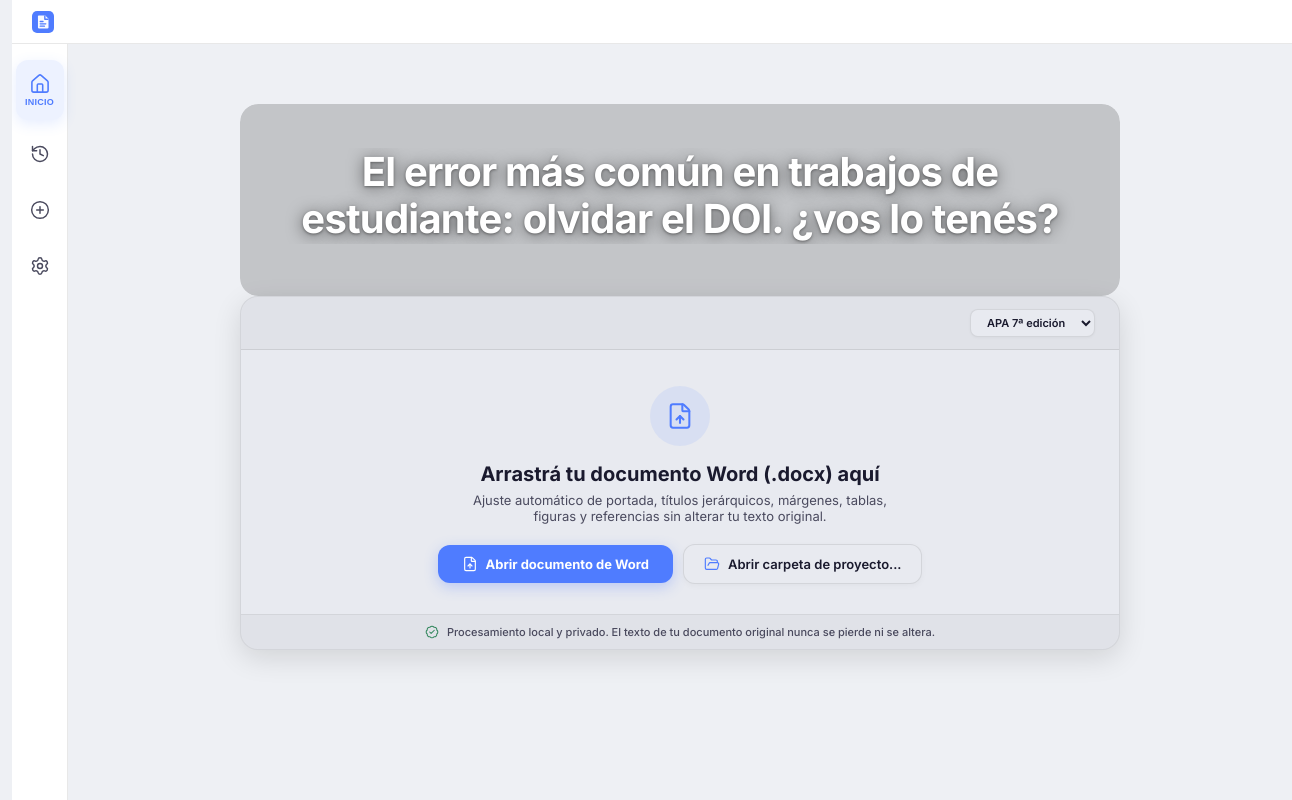
it: T19 — rail de Inicio › Recientes del rail cambia el contenido, igual que el botón del sidebar viejo
This screenshot has width=1292, height=800.
Expected: the heading "Documentos Recientes" is not shown
Click the button named "Recientes". click: x=40, y=154
box: [18,132,62,176]
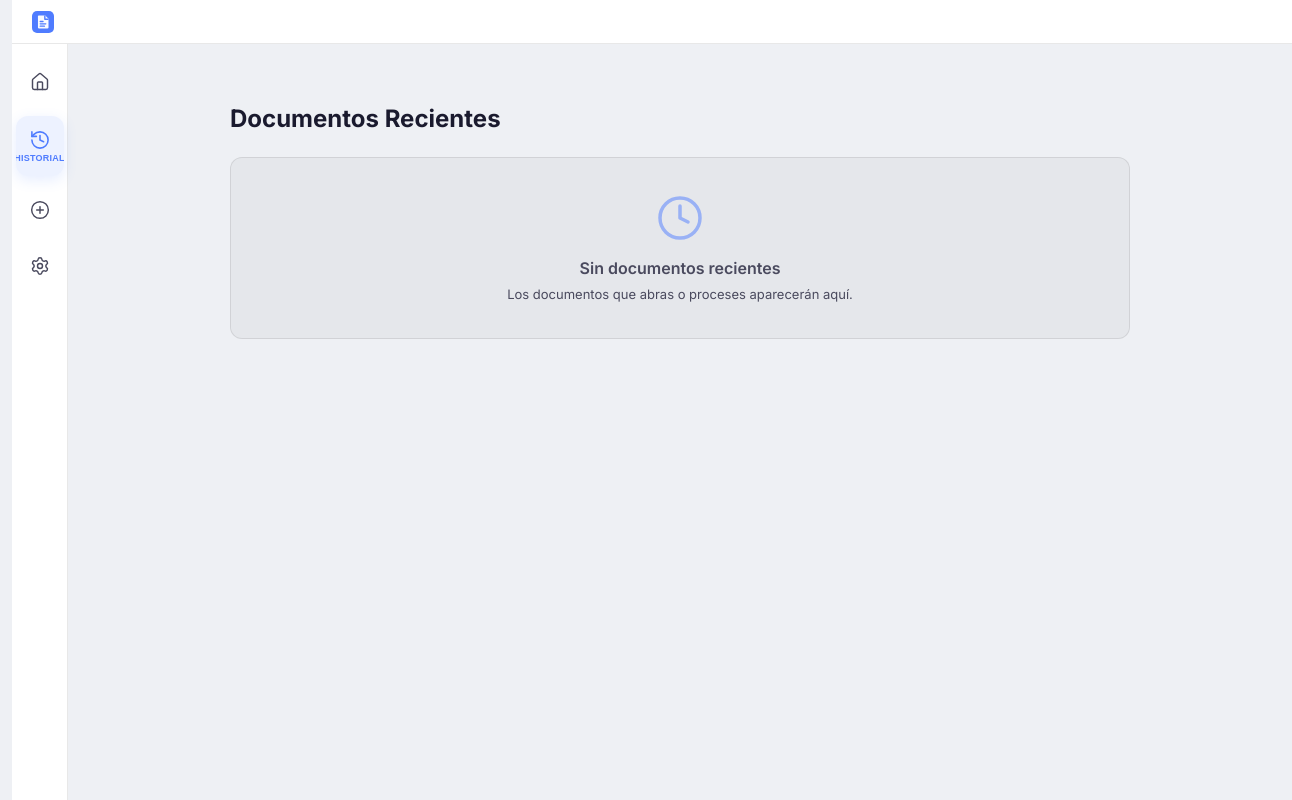
Expected: the heading "Documentos Recientes" is shown, [230,104,501,133]
